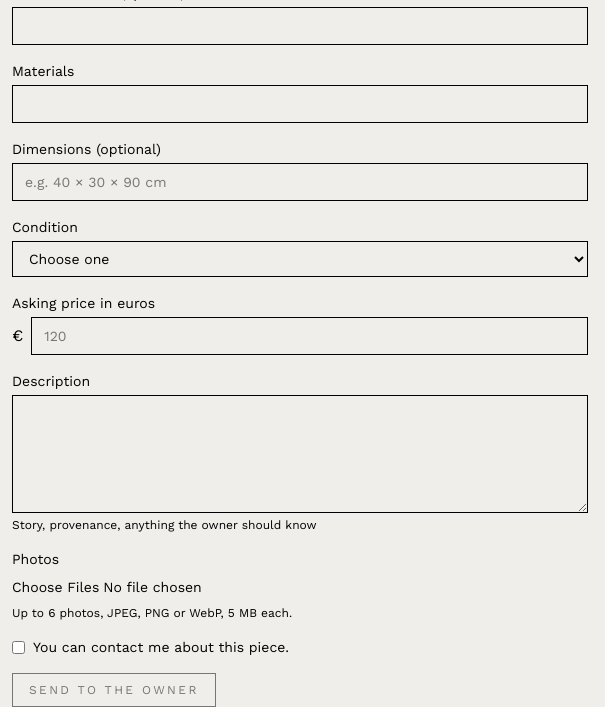
Scenario: submit stays disabled until the consent box is ticked
(page scrolled)
Expected: the button "Send to the owner" is disabled, [12, 673, 216, 706]
Click the checkbox labelled "You can contact me about this piece." at point(18, 648), box [12, 641, 25, 654]
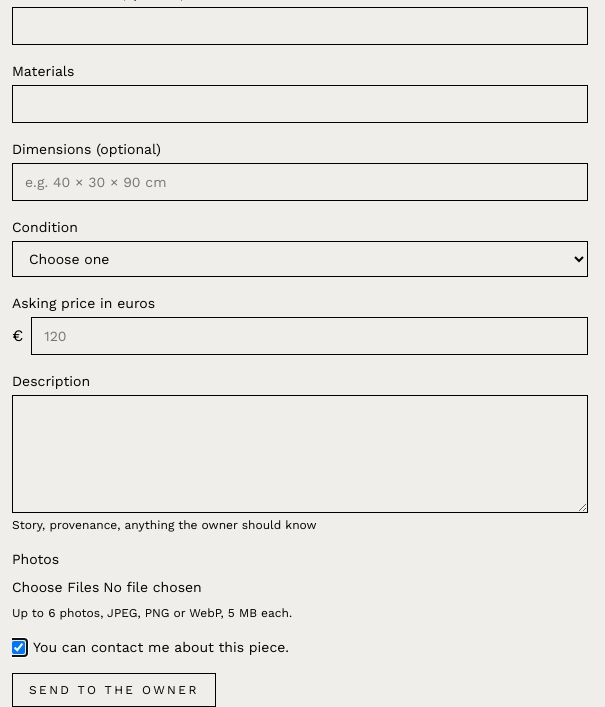
Expected: the button "Send to the owner" is enabled, [12, 673, 216, 706]
